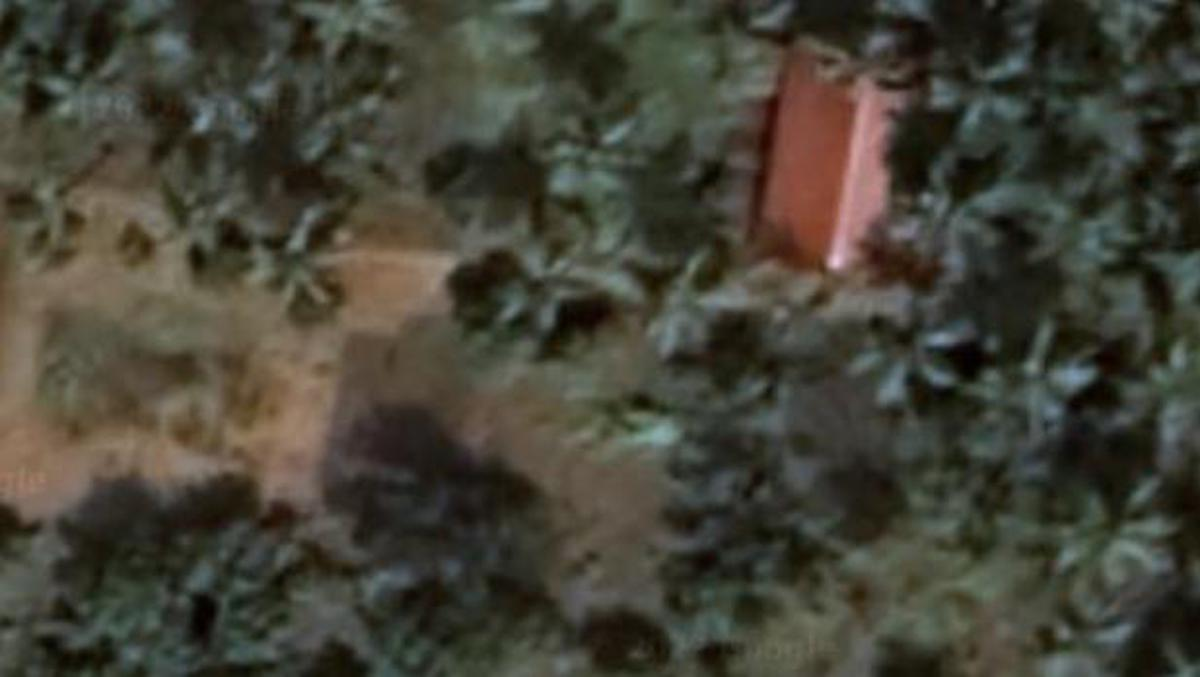coconut: (894, 136, 1021, 272), (921, 27, 1050, 138), (1058, 466, 1186, 570), (462, 235, 571, 344), (851, 299, 966, 398), (635, 250, 739, 356), (250, 212, 353, 311), (988, 330, 1091, 427), (0, 147, 95, 250), (540, 97, 643, 192), (1024, 182, 1133, 268), (149, 157, 241, 256), (186, 46, 280, 140), (40, 38, 126, 132)
